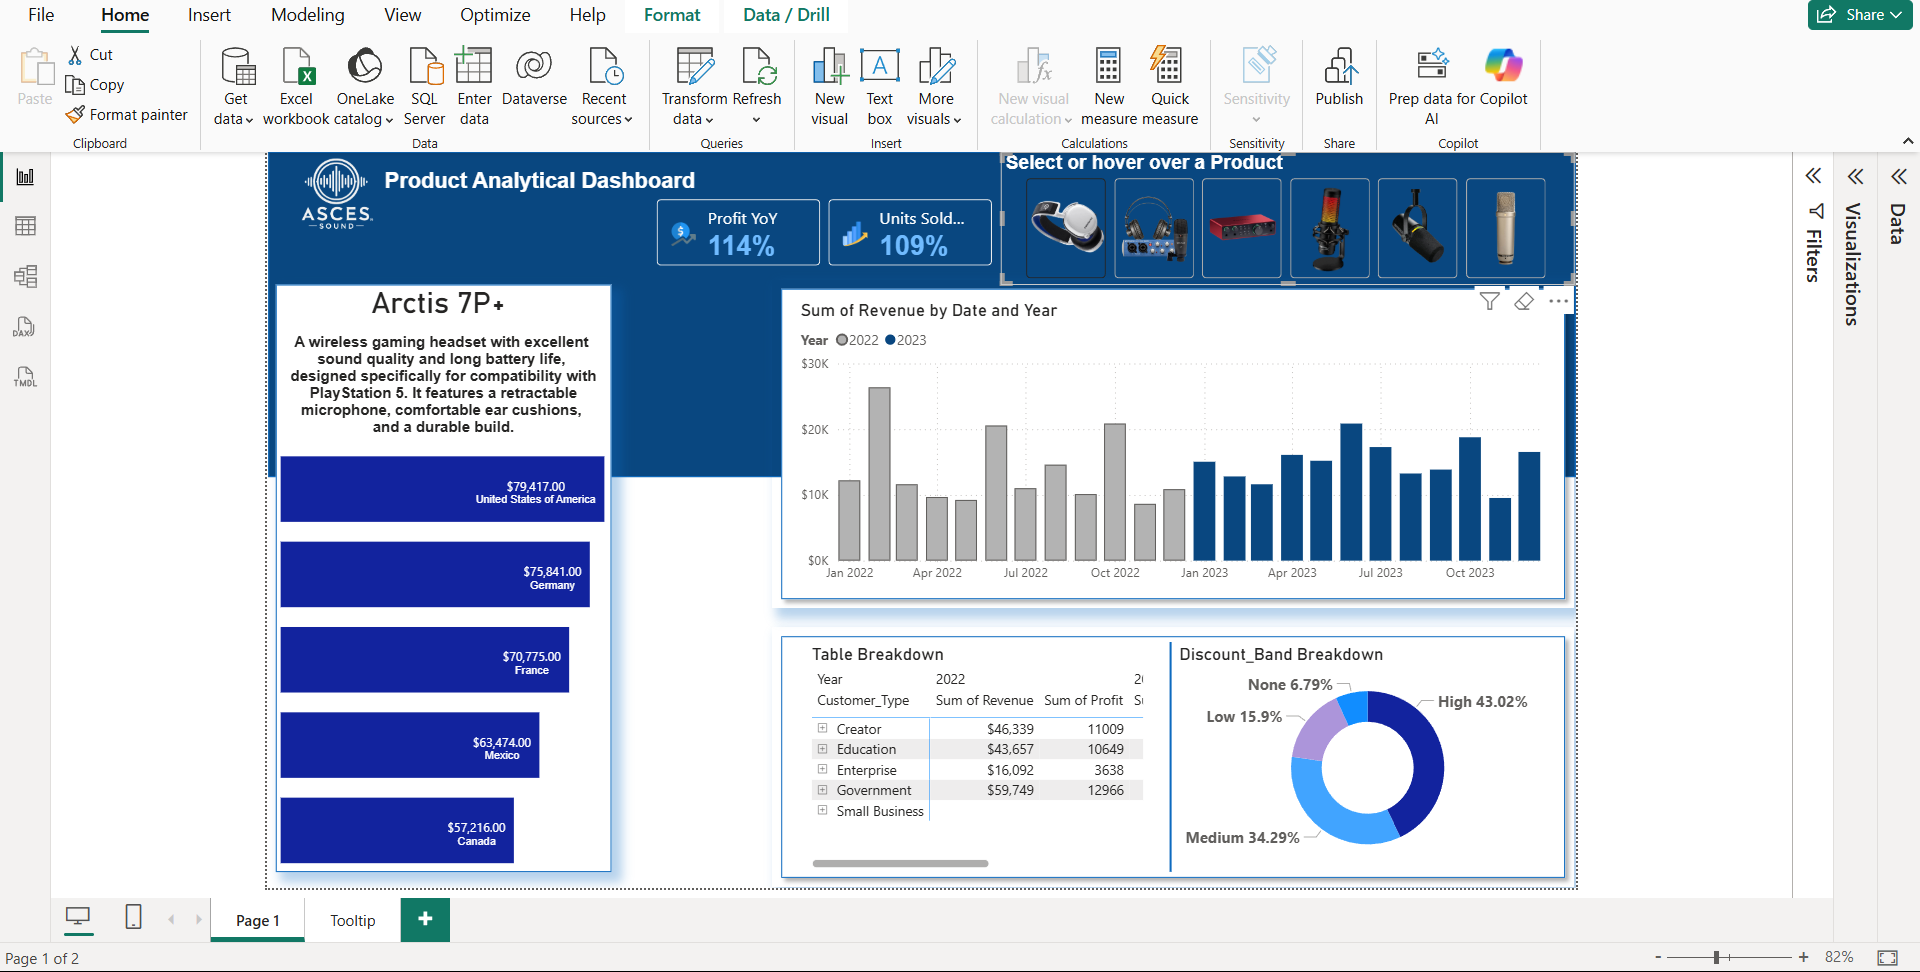

Layout of this report page (visuals, bound fields, positions):
{"tool":"powerbi","page":{"name":"Page 1","canvas":[1280,720],"ordinal":0},"visuals":[{"type":"shape","box":[1.4,0,1279.2,318.1],"z":0},{"type":"shape","box":[8.1,129.2,328.5,574.8],"z":1000},{"type":"shape","box":[494.1,125.2,784.9,321.8],"z":2000},{"type":"shape","box":[494.1,464.5,784.9,254.4],"z":3000},{"type":"image","box":[0,0,129,78.2],"z":4000},{"type":"advancedSlicerVisual","title":"Select or hover over a Product","fields":{"Values":["Query1.Selection"]},"box":[718.1,0,561.1,129.2],"z":5000},{"type":"card","fields":{"Values":["Min(Query1.Description)"]},"box":[8.1,129.2,328.5,188.5],"z":6000},{"type":"clusteredBarChart","fields":{"Y":["Sum(Query1.Revenue)"],"Category":["Query1.Country"]},"box":[8.1,285.4,382.3,418.7],"z":7000},{"type":"card","fields":{"Values":["Min(Query1.Product)"]},"box":[0,110.4,336.6,71.4],"z":8000},{"type":"donutChart","title":"Discount_Band Breakdown","fields":{"Category":["Query1.Discount_Band"],"Y":["Sum(Query1.Revenue)"]},"box":[887.2,480.6,378.3,224.8],"z":9000},{"type":"shape","box":[852.2,479.3,63.3,224.8],"z":10000},{"type":"columnChart","fields":{"Y":["Sum(Query1.Revenue)"],"Series":["Query1.Year.1"],"Category":["Query1.Date"]},"box":[517,144,748.5,285.4],"z":11000},{"type":"pivotTable","title":"Table Breakdown","fields":{"Rows":["Query1.Customer_Type","Query1.Product"],"Columns":["Query1.Year.1"],"Values":["Sum(Query1.Revenue)","Sum(Query1.Profit)"]},"box":[527.7,480.6,333.9,224.8],"z":12000},{"type":"cardVisual","fields":{"Data":["Query1.Profit YoY","Query1.Units_sold YoY"]},"box":[364.8,29.6,363.5,99.6],"z":13000},{"type":"textbox","box":[110.4,10.8,336.6,37.7],"z":13001}]}

Visuals, with their boxes on the page's 1280x720 design canvas (x1, y1, x2, y2). These are canvas units, not pixel positions in the 1920x972 screenshot, which may show the page scaled, cropped or inside an application window:
shape: (1,0,1281,318)
shape: (8,129,337,704)
shape: (494,125,1279,447)
shape: (494,464,1279,719)
image: (0,0,129,78)
"Select or hover over a Product" advancedSlicerVisual: (718,0,1279,129)
card - Min(Query1.Description): (8,129,337,318)
clusteredBarChart - Sum(Query1.Revenue) x Query1.Country: (8,285,390,704)
card - Min(Query1.Product): (0,110,337,182)
"Discount_Band Breakdown" donutChart: (887,481,1266,705)
shape: (852,479,916,704)
columnChart - Sum(Query1.Revenue) x Query1.Year.1: (517,144,1266,429)
"Table Breakdown" pivotTable: (528,481,862,705)
cardVisual - Query1.Profit YoY x Query1.Units_sold YoY: (365,30,728,129)
textbox: (110,11,447,48)
